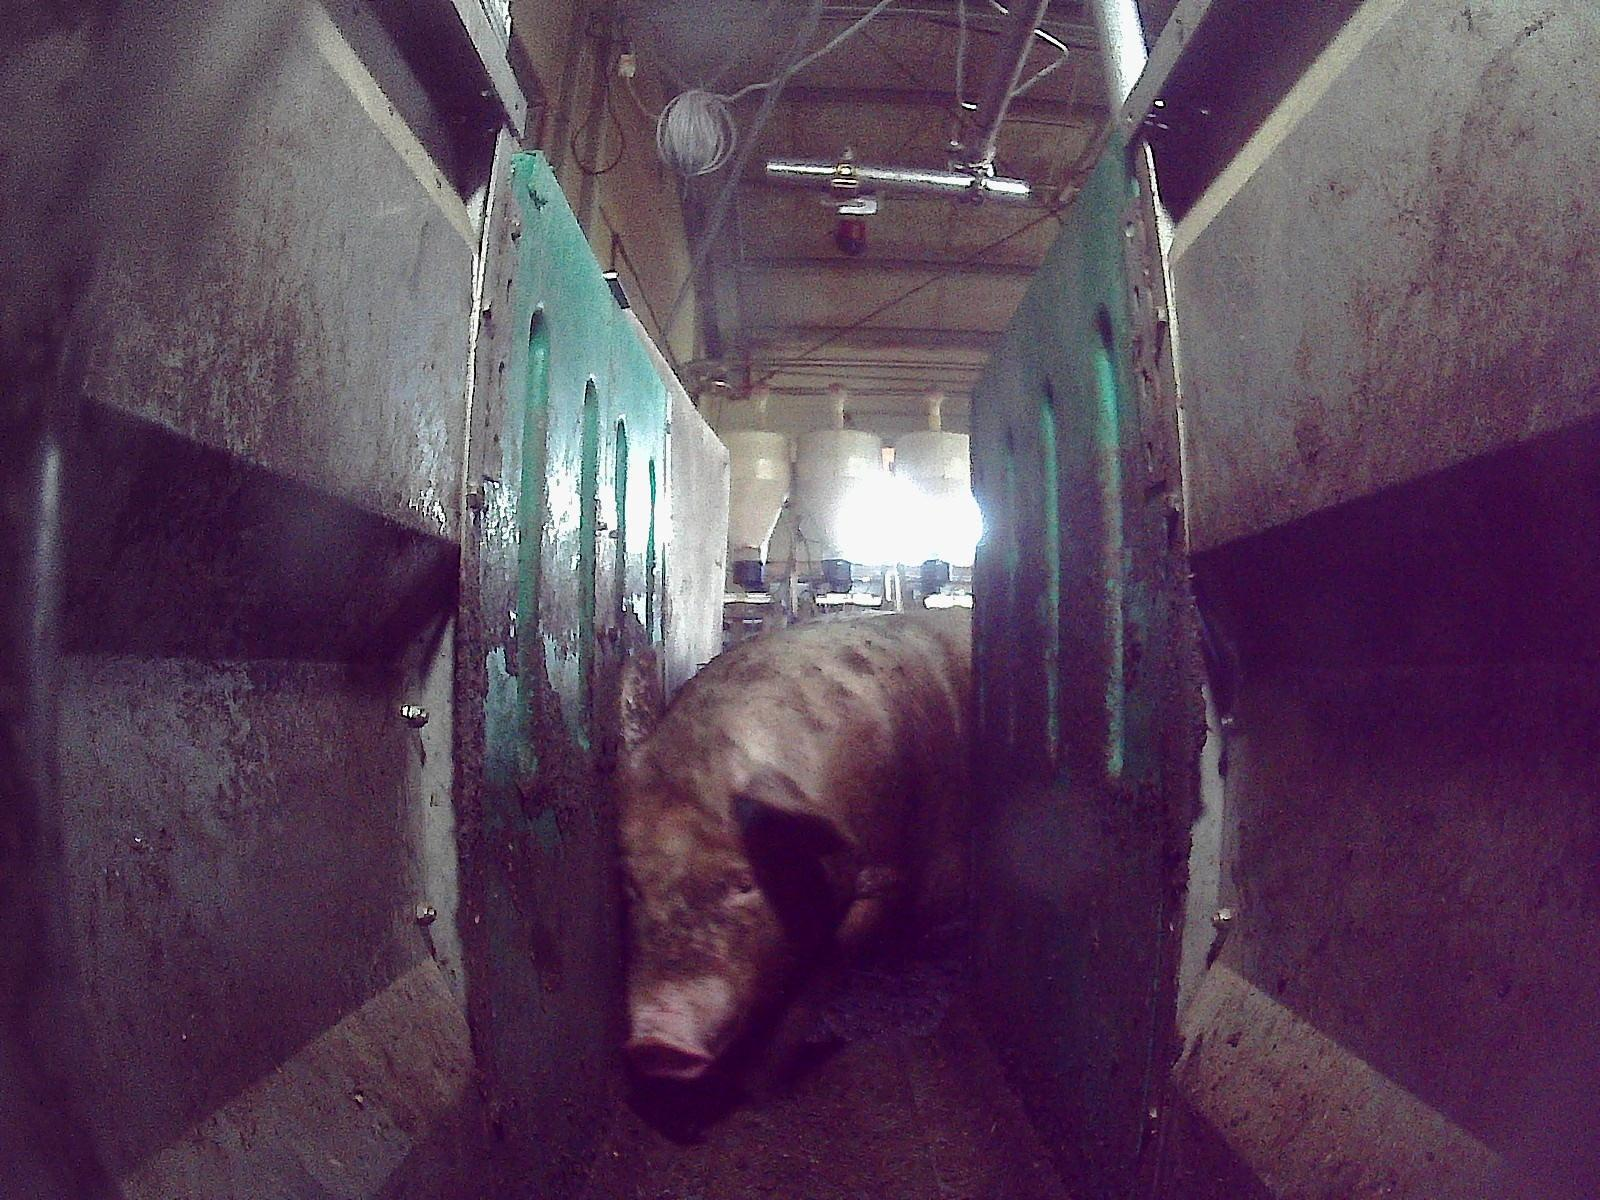Face: (611, 778, 804, 1080)
